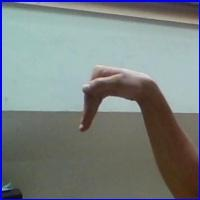del: (74, 58, 166, 141)
